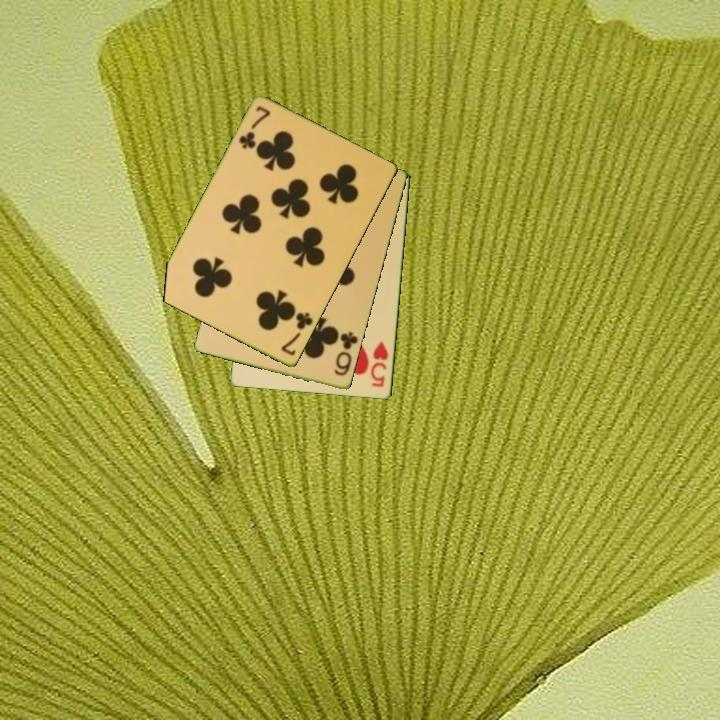5h: (367, 338, 391, 390)
6c: (331, 328, 361, 379)
7c: (235, 102, 273, 153), (278, 309, 316, 359)
